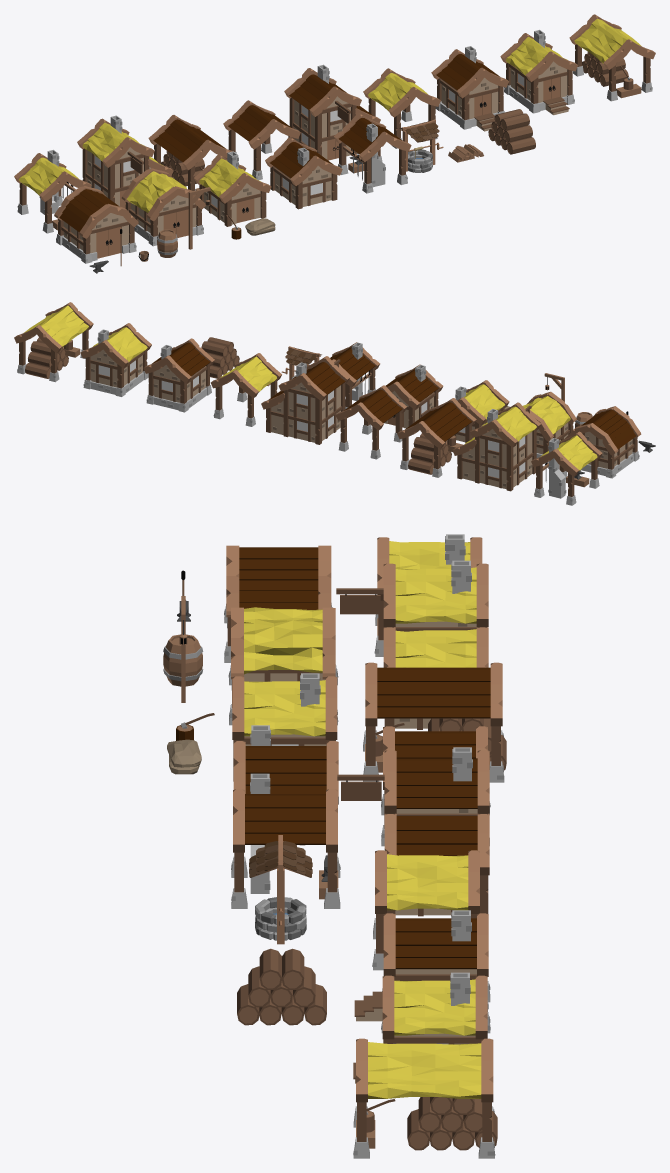
Rendered from uploads_files_3111329_Houses.fbx.
The picture shows the model from 3 angles, top to bottom: view 1: azimuth 30°, elevation 25°; view 2: azimuth 150°, elevation 25°; view 3: azimuth 270°, elevation 25°; orthographic projection. The views are drawn at different scales.
Visible parts, largest first — view 1: Barn, Tavern, Straw House 1, House 1, Straw Tavern, Straw Woodsman, Straw Barn, House 2, Straw house 2, Blacksmith, Woodsman, Straw Blacksmith (+8 smaller); view 2: Straw Tavern, Tavern, House 1, Straw House 1, Straw Woodsman, Woodsman, Straw Blacksmith, Barn, Wood shelter, Straw shelter, House 2, Straw Barn (+4 smaller); view 3: Straw Woodsman, Tavern, Straw Tavern, Woodsman, Blacksmith, Straw Barn, House 1, Straw House 1, Barn, Straw house 2, Straw shelter, Log stack (+6 smaller).
Part boxes in pixels (x1,y1,x2,y2): Barn: [54, 186, 138, 263]; Tavern: [284, 64, 380, 160]; Straw House 1: [500, 29, 577, 115]; House 1: [431, 46, 508, 131]; Straw Tavern: [77, 115, 173, 208]; Straw Woodsman: [569, 14, 655, 101]; Straw Barn: [121, 168, 205, 246]; House 2: [265, 137, 342, 209]; Straw house 2: [194, 151, 271, 226]; Blacksmith: [334, 113, 411, 193]; Woodsman: [148, 115, 232, 190]; Straw Blacksmith: [14, 149, 91, 233]; Straw Tavern: [452, 402, 541, 491]; Tavern: [261, 356, 349, 444]; House 1: [143, 338, 214, 412]; Straw House 1: [80, 323, 151, 396]; Straw Woodsman: [14, 302, 93, 382]; Woodsman: [397, 398, 476, 477]; Straw Blacksmith: [531, 431, 602, 505]; Barn: [564, 406, 641, 478]; Wood shelter: [335, 385, 406, 459]; Straw shelter: [210, 353, 281, 426]; House 2: [384, 364, 443, 428]; Straw Barn: [523, 391, 576, 463]; Straw Woodsman: [353, 1038, 497, 1158]; Tavern: [337, 747, 489, 916]; Straw Tavern: [336, 560, 488, 729]; Woodsman: [363, 662, 506, 782]; Blacksmith: [231, 773, 340, 908]; Straw Barn: [228, 607, 338, 725]; House 1: [354, 910, 490, 1033]; Straw House 1: [353, 972, 487, 1083]; Barn: [224, 545, 332, 662]; Straw house 2: [232, 673, 337, 781]; Straw shelter: [372, 850, 479, 970]; Log stack: [237, 948, 326, 1025].
Size of the model in its own units: 2642 by 314 by 697.
